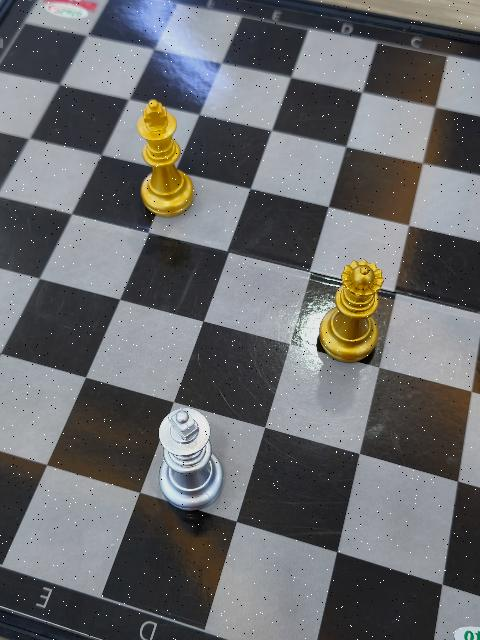black_king: (137, 100, 194, 219)
black_queen: (318, 260, 384, 363)
white_king: (156, 405, 224, 512)
